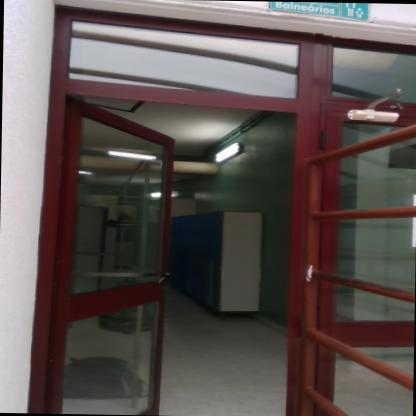open: (18, 11, 330, 412)
